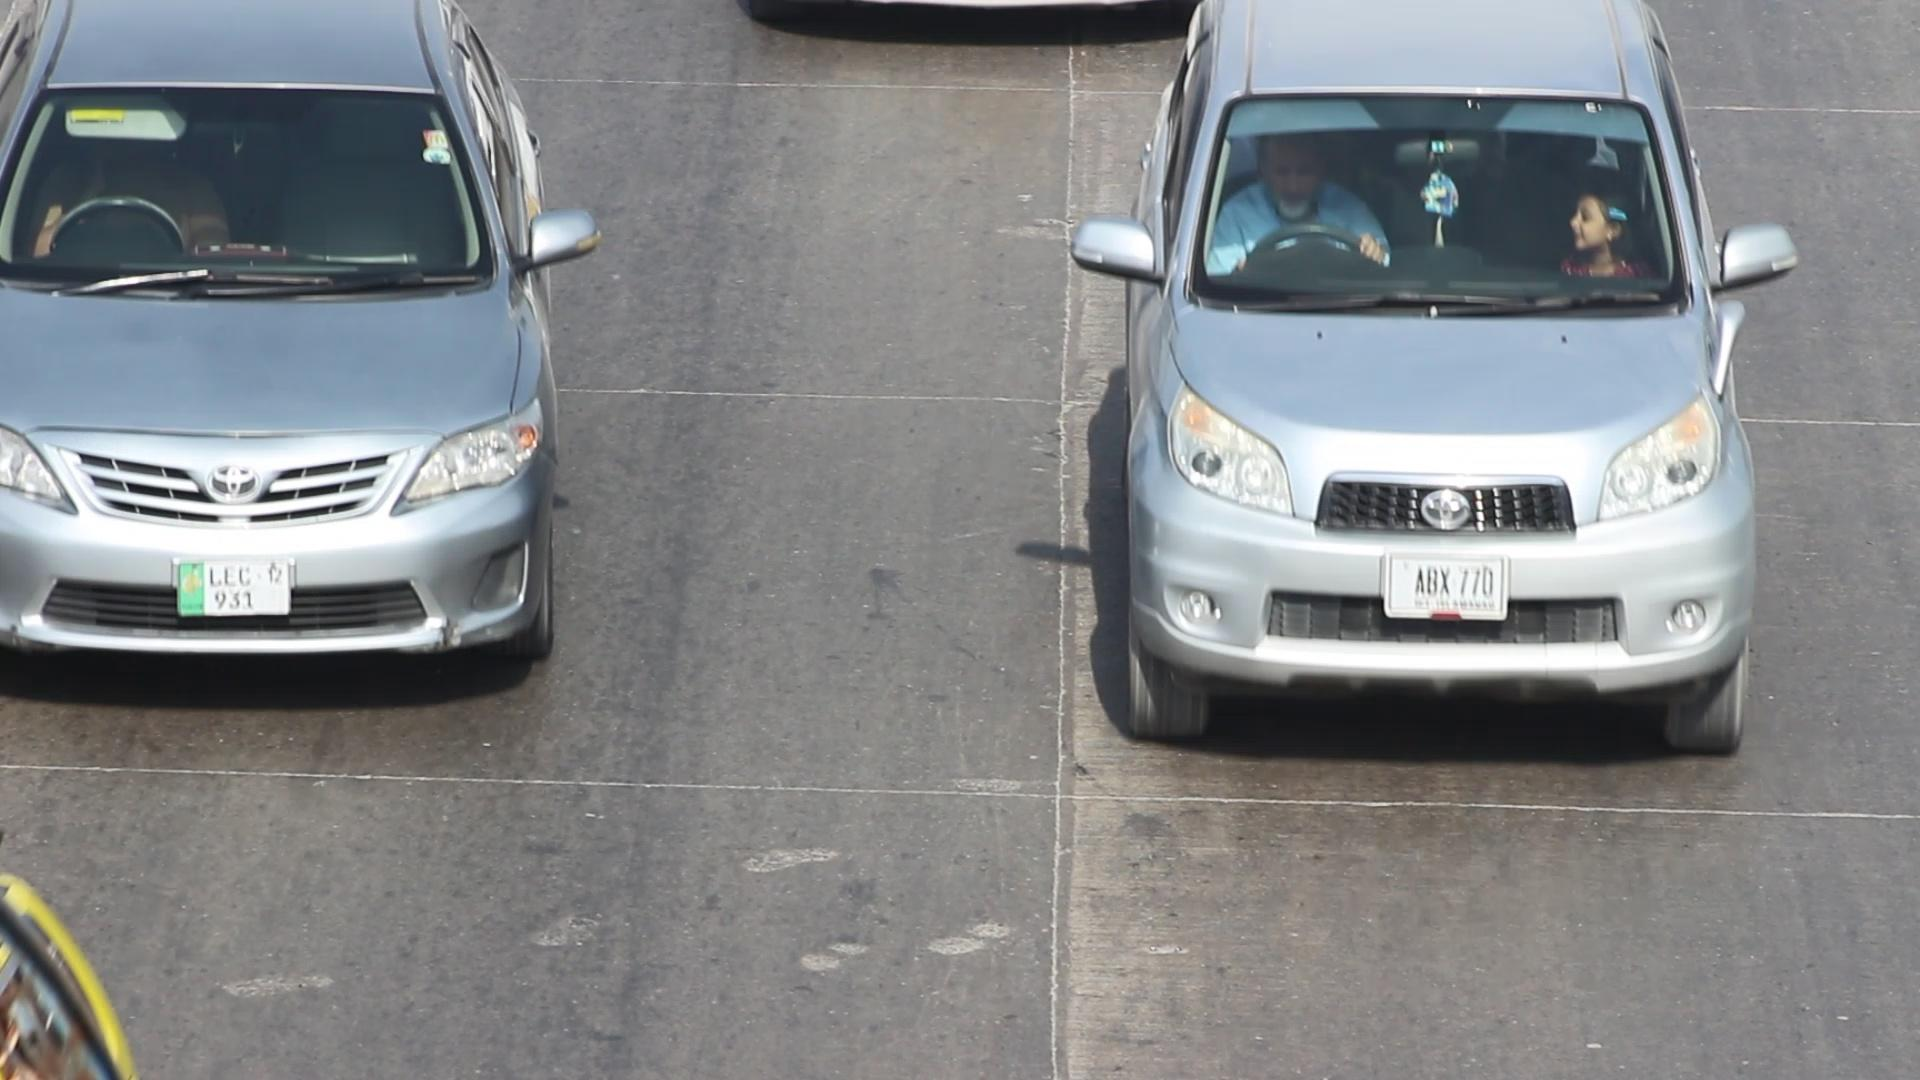windshield: (1187, 80, 1700, 316), (1, 80, 495, 290)
